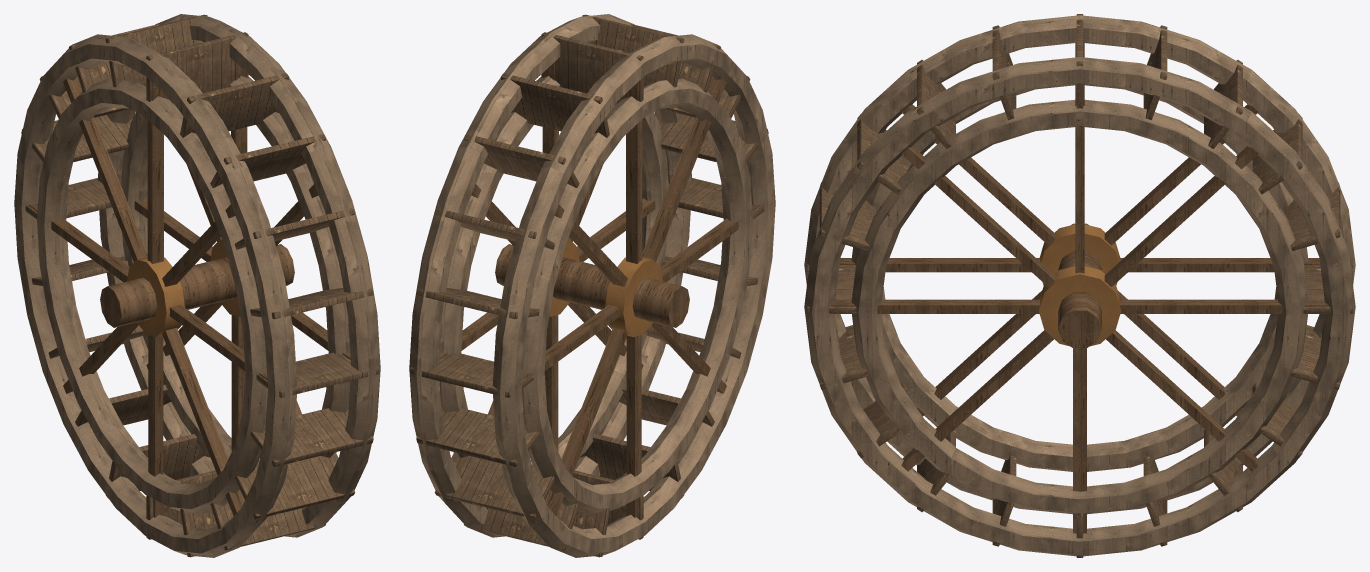
The model's file is country_mill-wheel.glb.
The picture shows the model from 3 angles, left to right: view 1: azimuth 30°, elevation 25°; view 2: azimuth 150°, elevation 25°; view 3: azimuth 270°, elevation 25°; orthographic projection. The views are drawn at different scales.
Parts seen in each view (by area): view 1: wood, plank, wood_dark, bronze; view 2: wood, plank, wood_dark, bronze; view 3: wood, wood_dark, plank, bronze.
Boxes of the visible parts, left/top/right/bottom form: wood: left=14, top=14, right=380, bottom=557; plank: left=21, top=14, right=379, bottom=557; wood_dark: left=29, top=62, right=350, bottom=517; bronze: left=127, top=239, right=240, bottom=336; wood: left=409, top=14, right=775, bottom=557; plank: left=410, top=14, right=768, bottom=557; wood_dark: left=439, top=62, right=760, bottom=517; bronze: left=549, top=239, right=662, bottom=336; wood: left=804, top=15, right=1355, bottom=556; wood_dark: left=831, top=42, right=1328, bottom=533; plank: left=807, top=14, right=1352, bottom=557; bronze: left=1039, top=224, right=1120, bottom=348.
Bounding box in the file's own units: 1.5 × 4.02 × 4.02.
4 materials, 4 textured.
